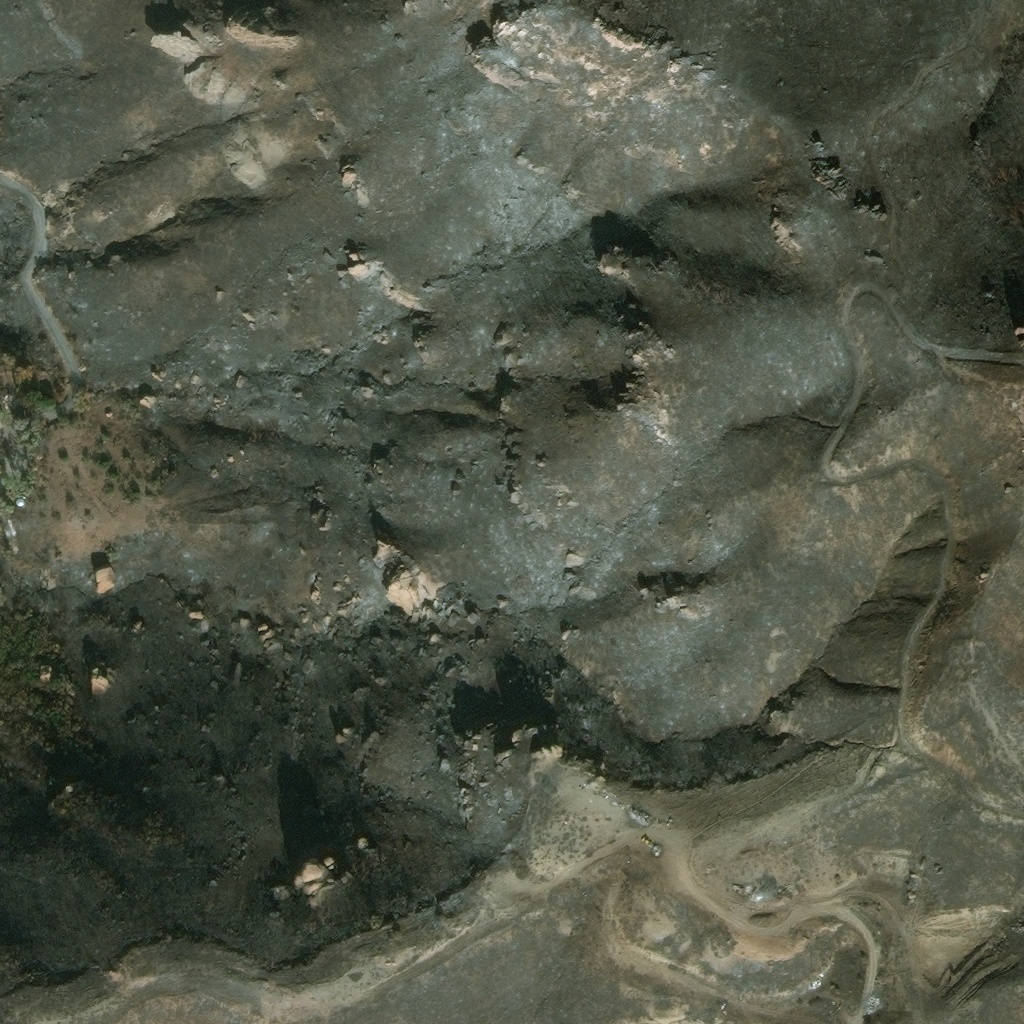3 destroyed: (632, 807, 653, 824), (0, 390, 15, 408), (867, 993, 878, 1010), (825, 1002, 834, 1011), (17, 499, 24, 507)
